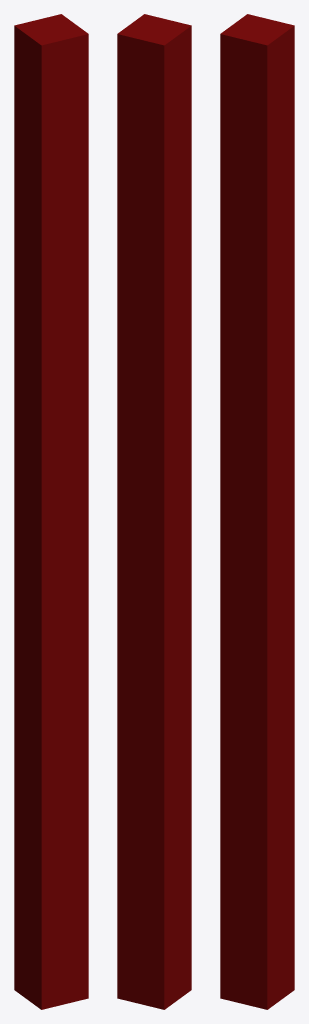
File: ropeforclimbingbot.obj
The picture shows the model from 3 angles, left to right: view 1: azimuth 30°, elevation 25°; view 2: azimuth 150°, elevation 25°; view 3: azimuth 330°, elevation 25°; orthographic projection.
Visible parts, largest first — view 1: ropeforclimbingbot_back; view 2: ropeforclimbingbot_back; view 3: ropeforclimbingbot_back.
Part boxes in pixels (x1,y1,x2,y2): ropeforclimbingbot_back: (14,14,88,1009); ropeforclimbingbot_back: (117,14,191,1009); ropeforclimbingbot_back: (220,14,294,1009).
Bounding box in the file's own units: 0.16 × 3.12 × 0.16.
